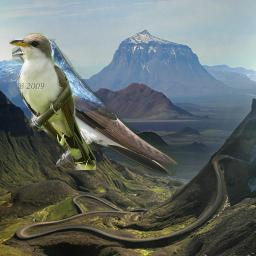Cuckoo: (9, 32, 96, 170)
Swallow: (12, 38, 179, 176)
